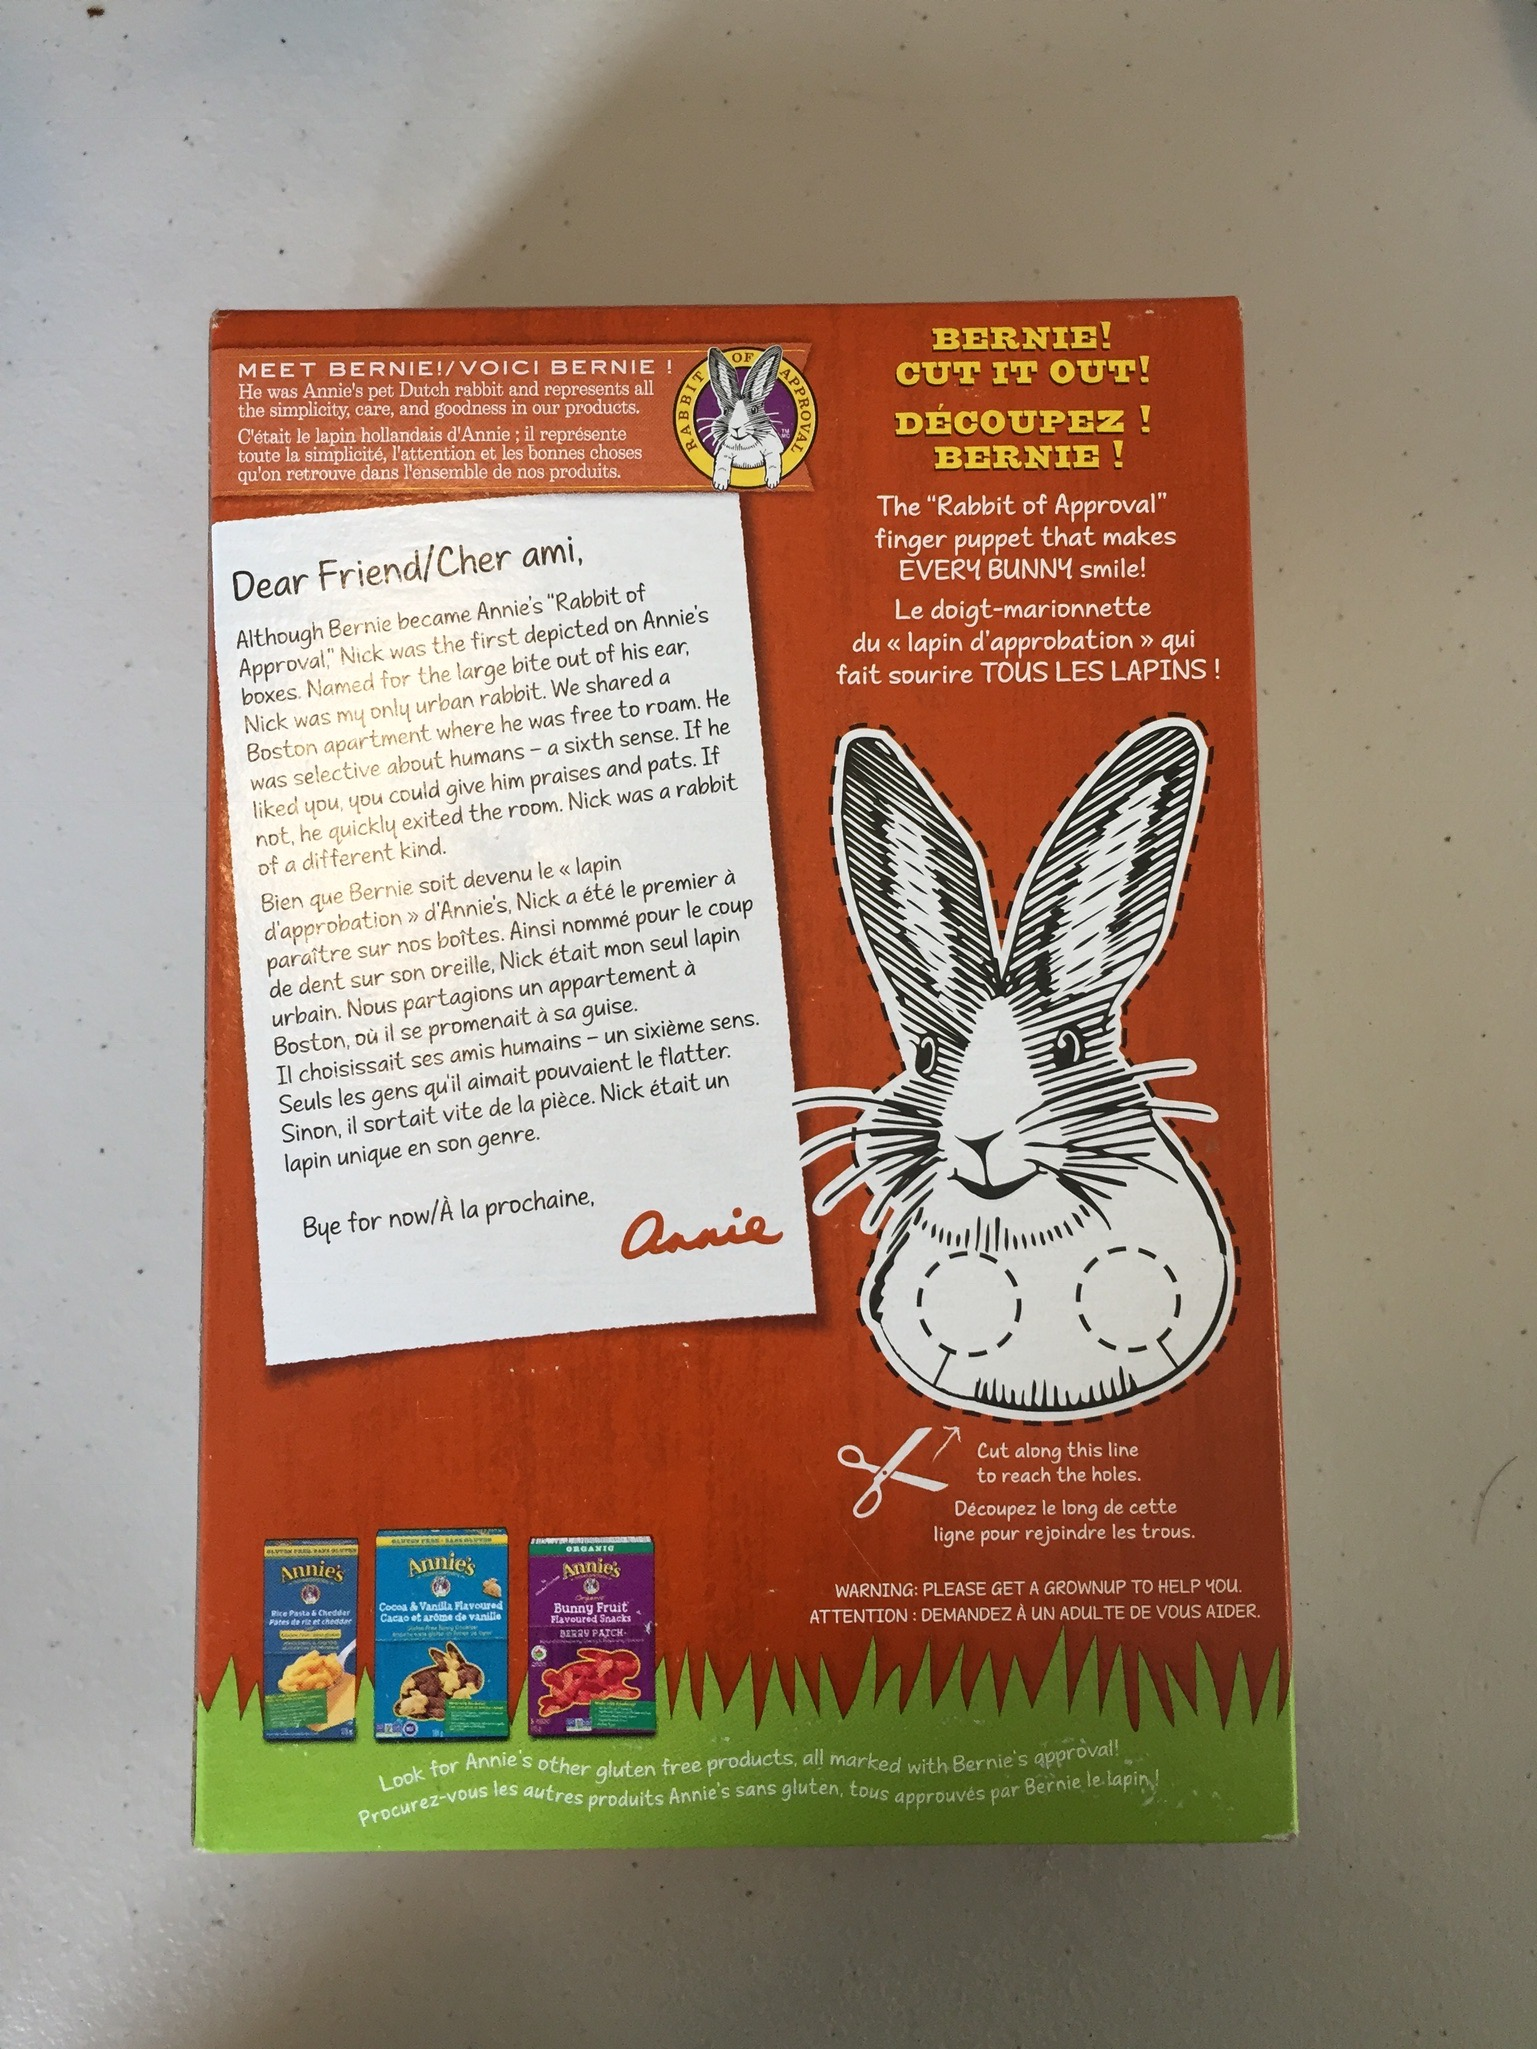annies_snickerdoodles_cinnamon_sugar: (218, 323, 1264, 1826)
